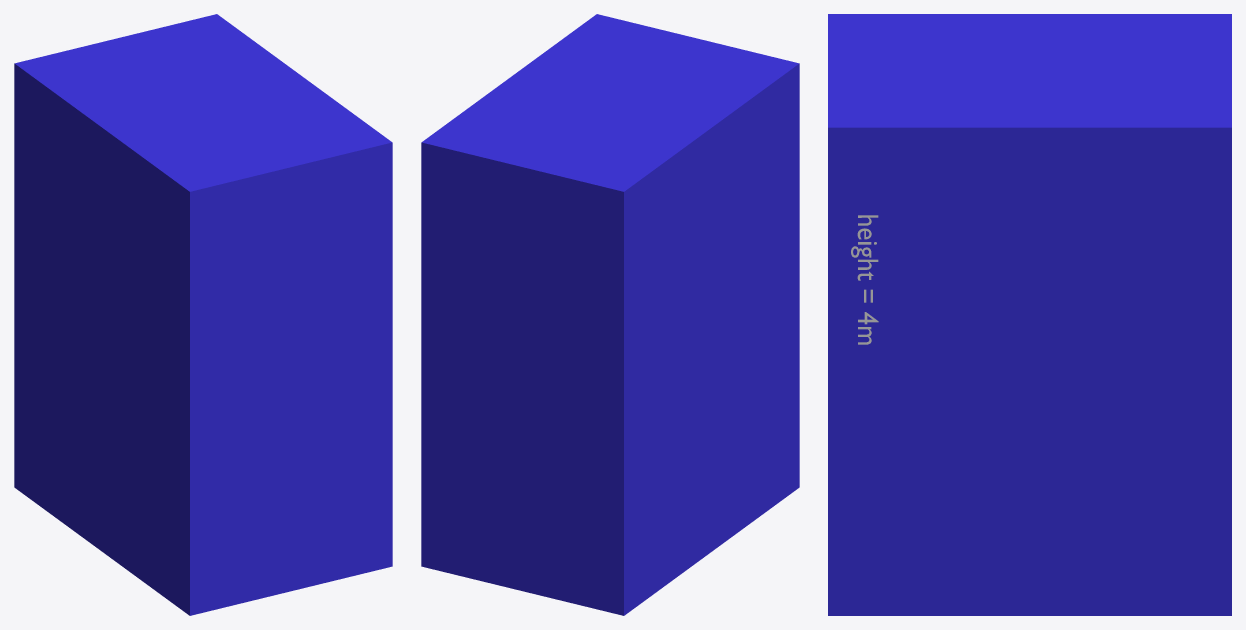
The model's file is rectang2_h4_w2_l3.glb.
3 renders of one model, left to right at view 1: azimuth 30°, elevation 25°; view 2: azimuth 150°, elevation 25°; view 3: azimuth 270°, elevation 25°, orthographic. The views are drawn at different scales.
Visible parts, largest first — view 1: Cube; view 2: Cube; view 3: Cube, height.
Boxes of the visible parts, box(x1,y1,x2,y2) form: Cube: box(14, 14, 392, 615); Cube: box(421, 14, 799, 615); Cube: box(828, 14, 1231, 615); height: box(851, 215, 878, 344).
Bounding box in the file's own units: 0.2012 × 0.4019 × 0.3.
